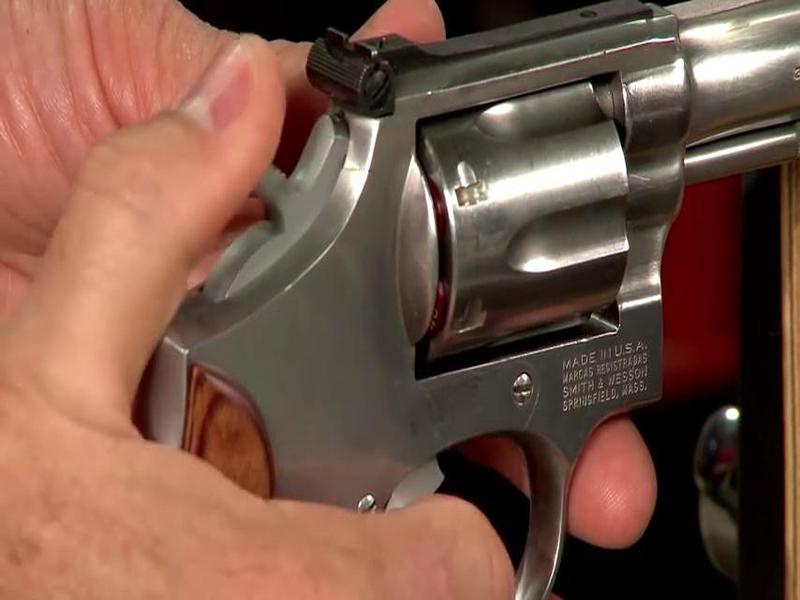Revolver: (162, 1, 799, 580)
